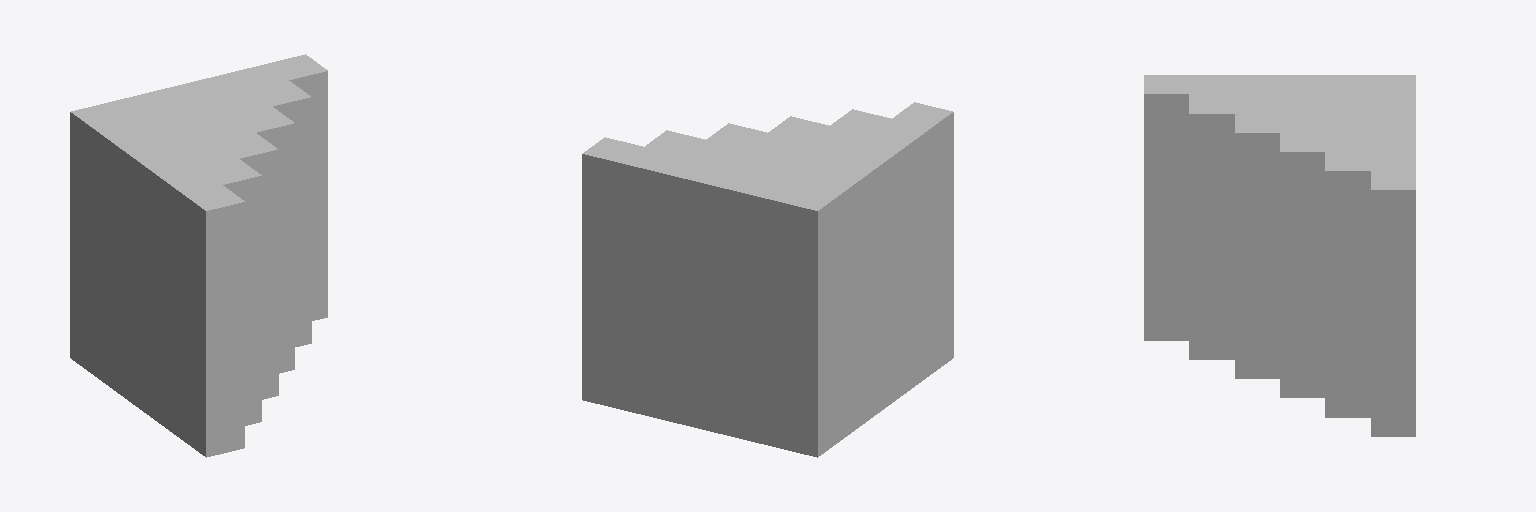
The model's file is Side Triangle.obj.
3 views of the same model, side by side, from view 1: azimuth 30°, elevation 25°; view 2: azimuth 150°, elevation 25°; view 3: azimuth 270°, elevation 25° (orthographic).
Visible parts, largest first — view 1: object 1; view 2: object 1; view 3: object 1.
Boxes of the visible parts, x1=… form: object 1: x1=70, y1=54, x2=327, y2=457; object 1: x1=582, y1=102, x2=953, y2=457; object 1: x1=1144, y1=75, x2=1415, y2=436.
Size of the model in its own units: 0.6 by 0.6 by 0.6.